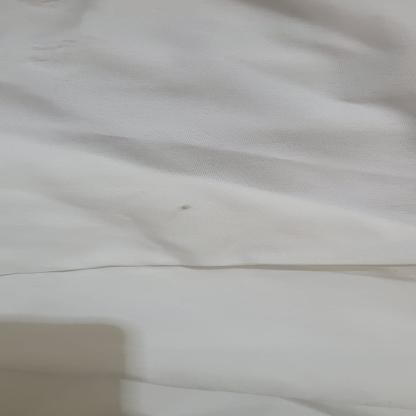spot: (174, 202, 194, 210)
